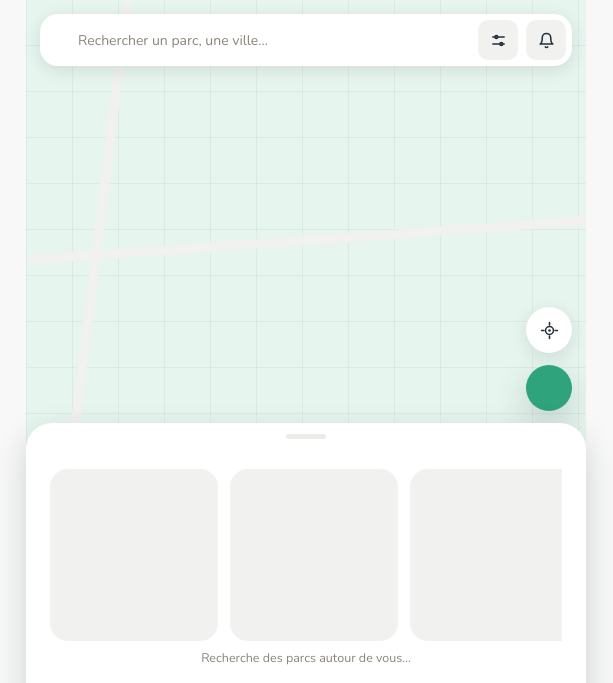
Scenario: Explorer — recherche › no place found: the map centre, the title and the loaded zone do not change
Click the button "Rechercher un parc, une ville…" at (262, 40), box left=54, top=14, right=470, bottom=66
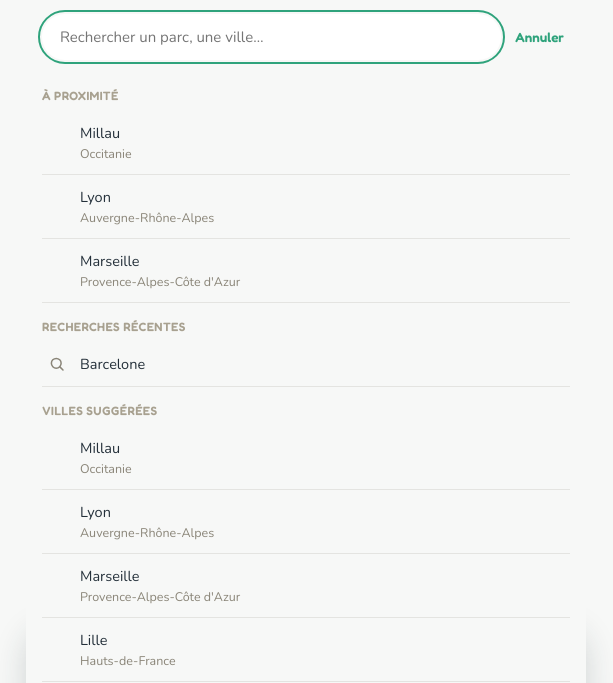
Type "Zzzzz" into the field with placeholder "Rechercher un parc, une ville…" at (272, 37), box left=42, top=14, right=501, bottom=60
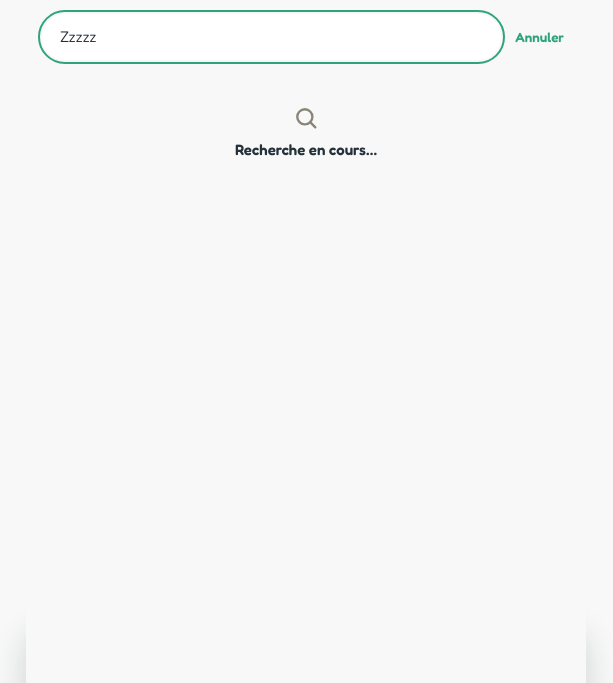
Submit the form with placeholder "Rechercher un parc, une ville…", box left=26, top=0, right=586, bottom=72
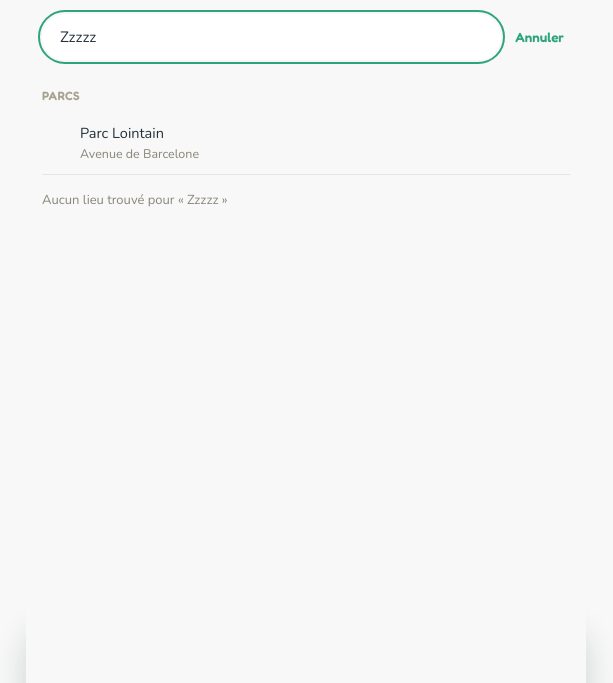
Check: the text "Aucun lieu trouvé pour « Zzzzz »" is shown, box left=42, top=191, right=228, bottom=209
